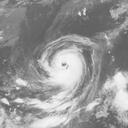cyclone: (38, 33, 102, 95)
